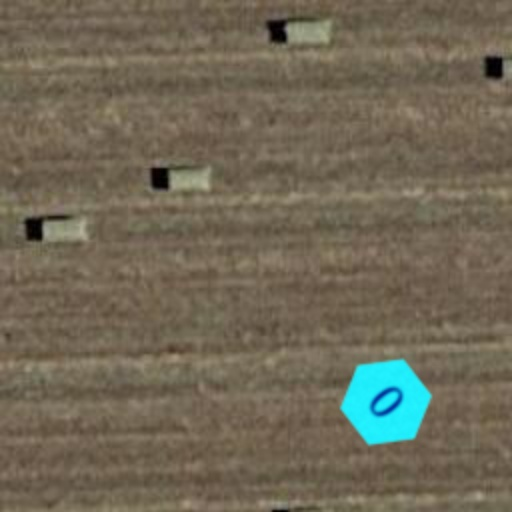hexagon: (320, 336, 452, 468)
